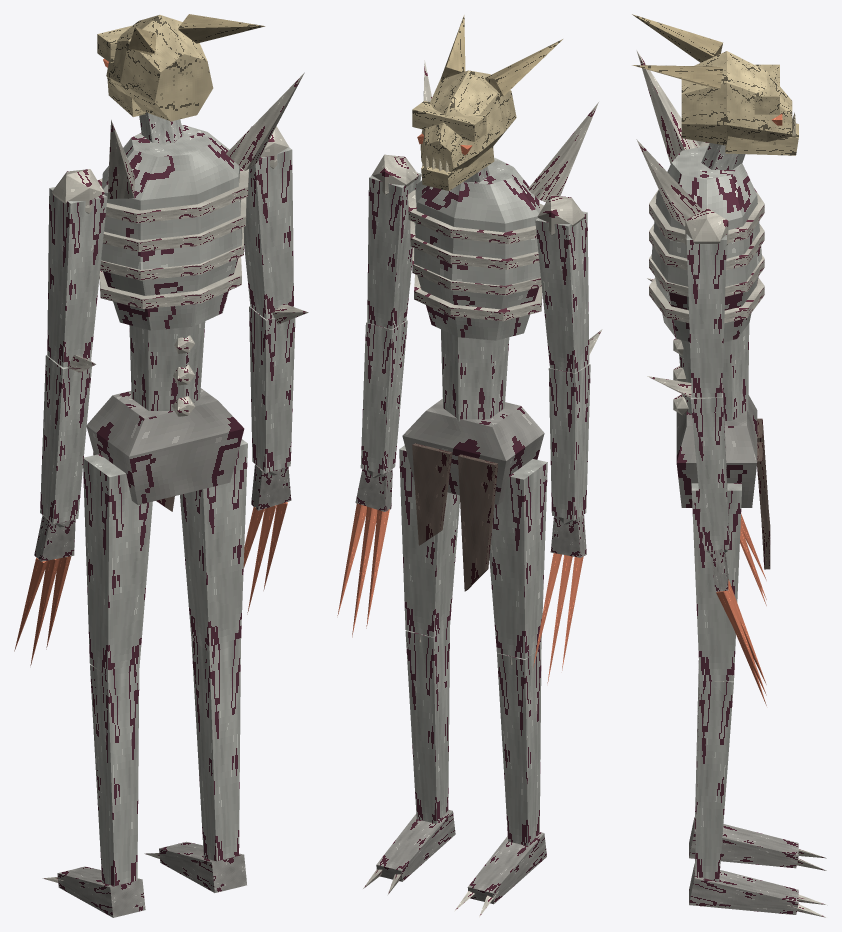
File: enemy_husk.gltf
The picture shows the model from 3 angles, left to right: view 1: azimuth 30°, elevation 25°; view 2: azimuth 150°, elevation 25°; view 3: azimuth 270°, elevation 25°; orthographic projection. The views are drawn at different scales.
Parts seen in each view (by area): view 1: chest, pelvis, thigh_l, shin_r, shin_l, thigh_r, head, upper_arm_l, upper_arm_r, forearm_l, forearm_r, spine (+4 smaller); view 2: chest, pelvis, shin_r, shin_l, thigh_l, head, upper_arm_l, upper_arm_r, thigh_r, forearm_l, forearm_r, spine (+5 smaller); view 3: chest, head, shin_r, upper_arm_r, thigh_r, pelvis, forearm_r, shin_l, spine, claws_r, jaw, hand_r (+1 smaller).
Boxes of the visible parts, box(x1,y1,x2,y2) form: chest: box(97, 72, 304, 330); pelvis: box(86, 388, 244, 511); thigh_l: box(83, 454, 152, 676); shin_r: box(144, 639, 246, 892); shin_l: box(42, 664, 145, 917); thigh_r: box(180, 439, 247, 652); head: box(97, 14, 265, 121); upper_arm_l: box(47, 169, 107, 367); upper_arm_r: box(243, 126, 293, 319); forearm_l: box(40, 355, 95, 523); forearm_r: box(249, 304, 308, 472); spine: box(129, 321, 205, 417); chest: box(407, 60, 598, 340); pelvis: box(402, 398, 544, 591); shin_r: box(363, 626, 455, 894); shin_l: box(454, 647, 546, 917); thigh_l: box(489, 459, 547, 665); head: box(412, 15, 562, 171); upper_arm_l: box(535, 195, 589, 373); upper_arm_r: box(367, 154, 421, 329); thigh_r: box(399, 445, 459, 642); forearm_l: box(548, 329, 602, 520); forearm_r: box(360, 283, 410, 474); spine: box(441, 329, 509, 421); chest: box(636, 50, 764, 341); head: box(632, 14, 792, 145); shin_r: box(689, 679, 826, 917); upper_arm_r: box(685, 208, 728, 397); thigh_r: box(691, 483, 741, 681); pelvis: box(676, 395, 770, 569); forearm_r: box(647, 376, 729, 550); shin_l: box(689, 660, 826, 870); spine: box(673, 323, 749, 420); claws_r: box(716, 579, 766, 705); jaw: box(725, 112, 798, 155); hand_r: box(706, 549, 728, 591).
Bounding box in the file's own units: 0.5448 × 1.86 × 0.39.
Materials: 18 (18 with a texture image).
